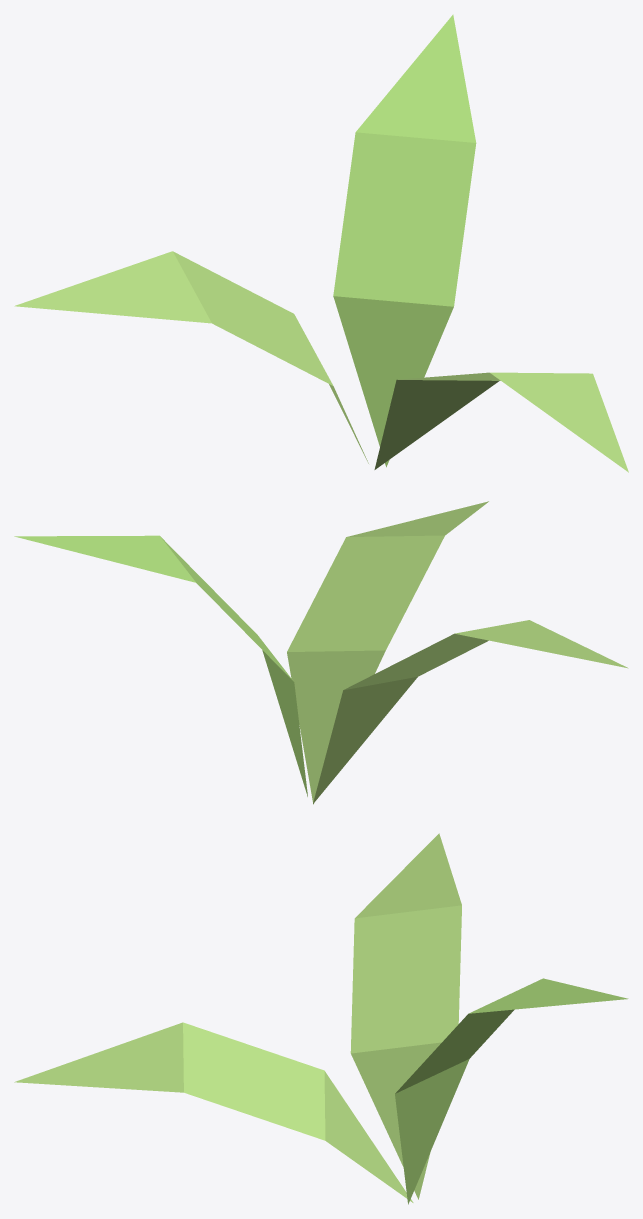
Rendered from Plant_b_TwoS_04.fbx.
3 views of the same model, one above another, from view 1: azimuth 30°, elevation 25°; view 2: azimuth 150°, elevation 25°; view 3: azimuth 270°, elevation 25° (orthographic). The views are drawn at different scales.
Parts seen in each view (by area): view 1: Plant_b_TwoS_04; view 2: Plant_b_TwoS_04; view 3: Plant_b_TwoS_04.
Boxes of the visible parts, x1,y1,x2,y2 form: Plant_b_TwoS_04: (14, 14, 628, 472); Plant_b_TwoS_04: (14, 501, 628, 804); Plant_b_TwoS_04: (14, 833, 628, 1204).
Size of the model in its own units: 0.7124 by 0.4025 by 0.768.
